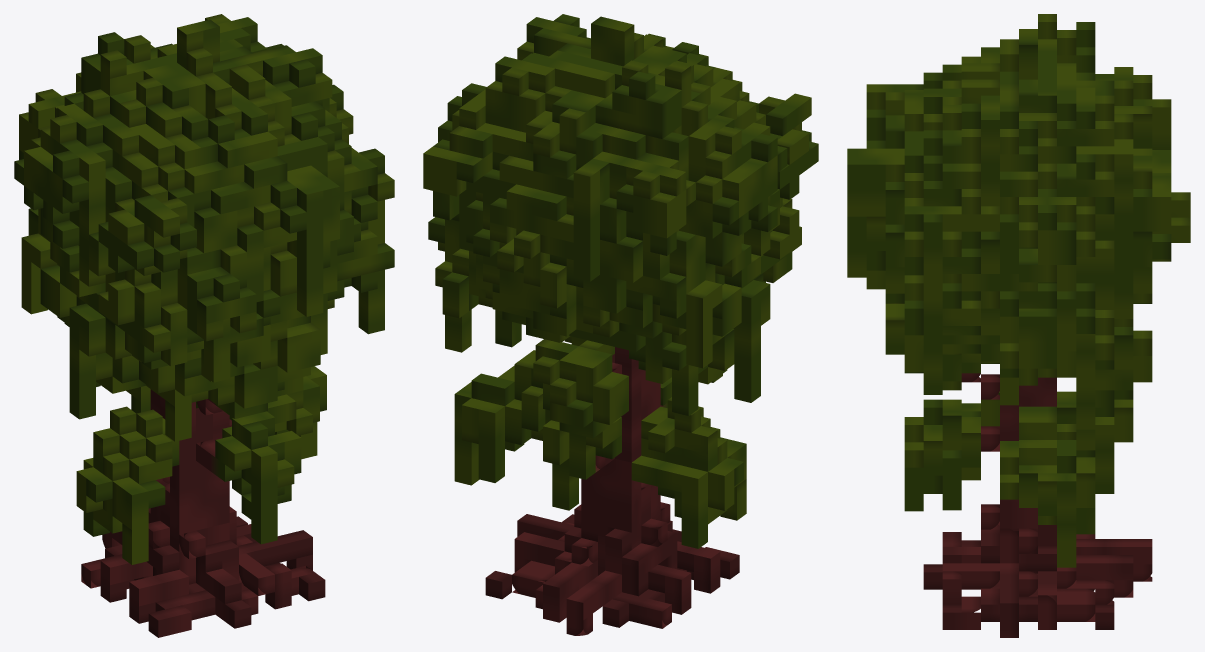
File: drzewko_z_01.dae
3 views of the same model, side by side, from view 1: azimuth 30°, elevation 25°; view 2: azimuth 150°, elevation 25°; view 3: azimuth 270°, elevation 25° (orthographic).
Visible parts, largest first — view 1: Content; view 2: Content; view 3: Content.
Boxes of the visible parts, bbox=[...] form: Content: bbox=[14, 14, 394, 637]; Content: bbox=[423, 14, 818, 635]; Content: bbox=[847, 14, 1190, 637].
Size of the model in its own units: 18 by 32 by 18.
Materials: 1 (1 with a texture image).
